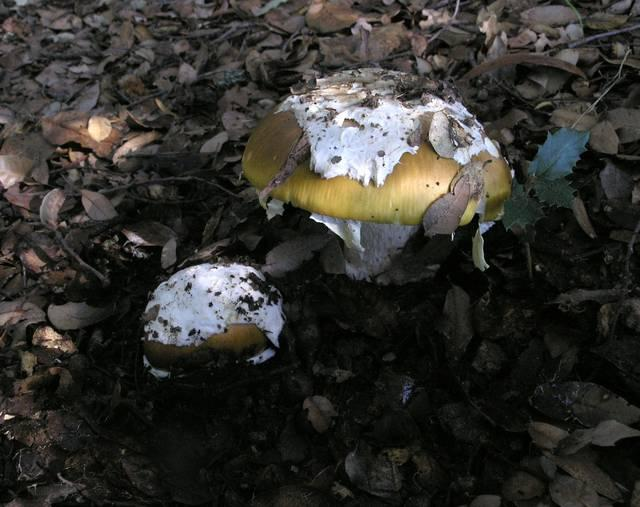Edible Mushroom: (240, 66, 513, 283), (139, 260, 286, 376)
